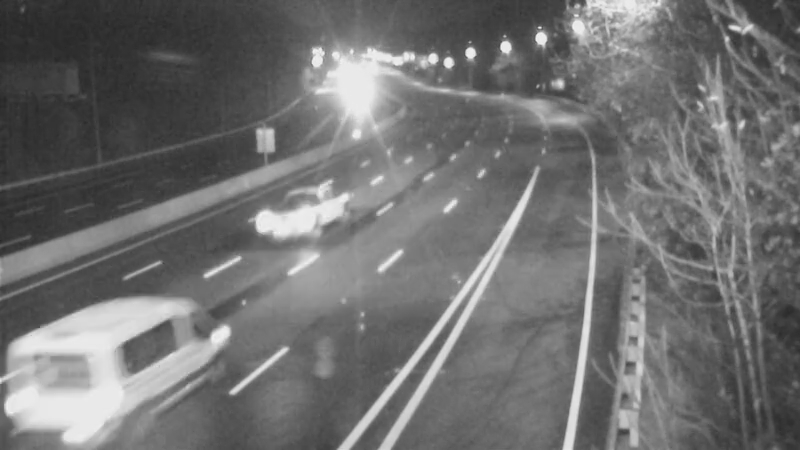vehicle: (9, 333, 119, 443), (250, 170, 330, 250)
